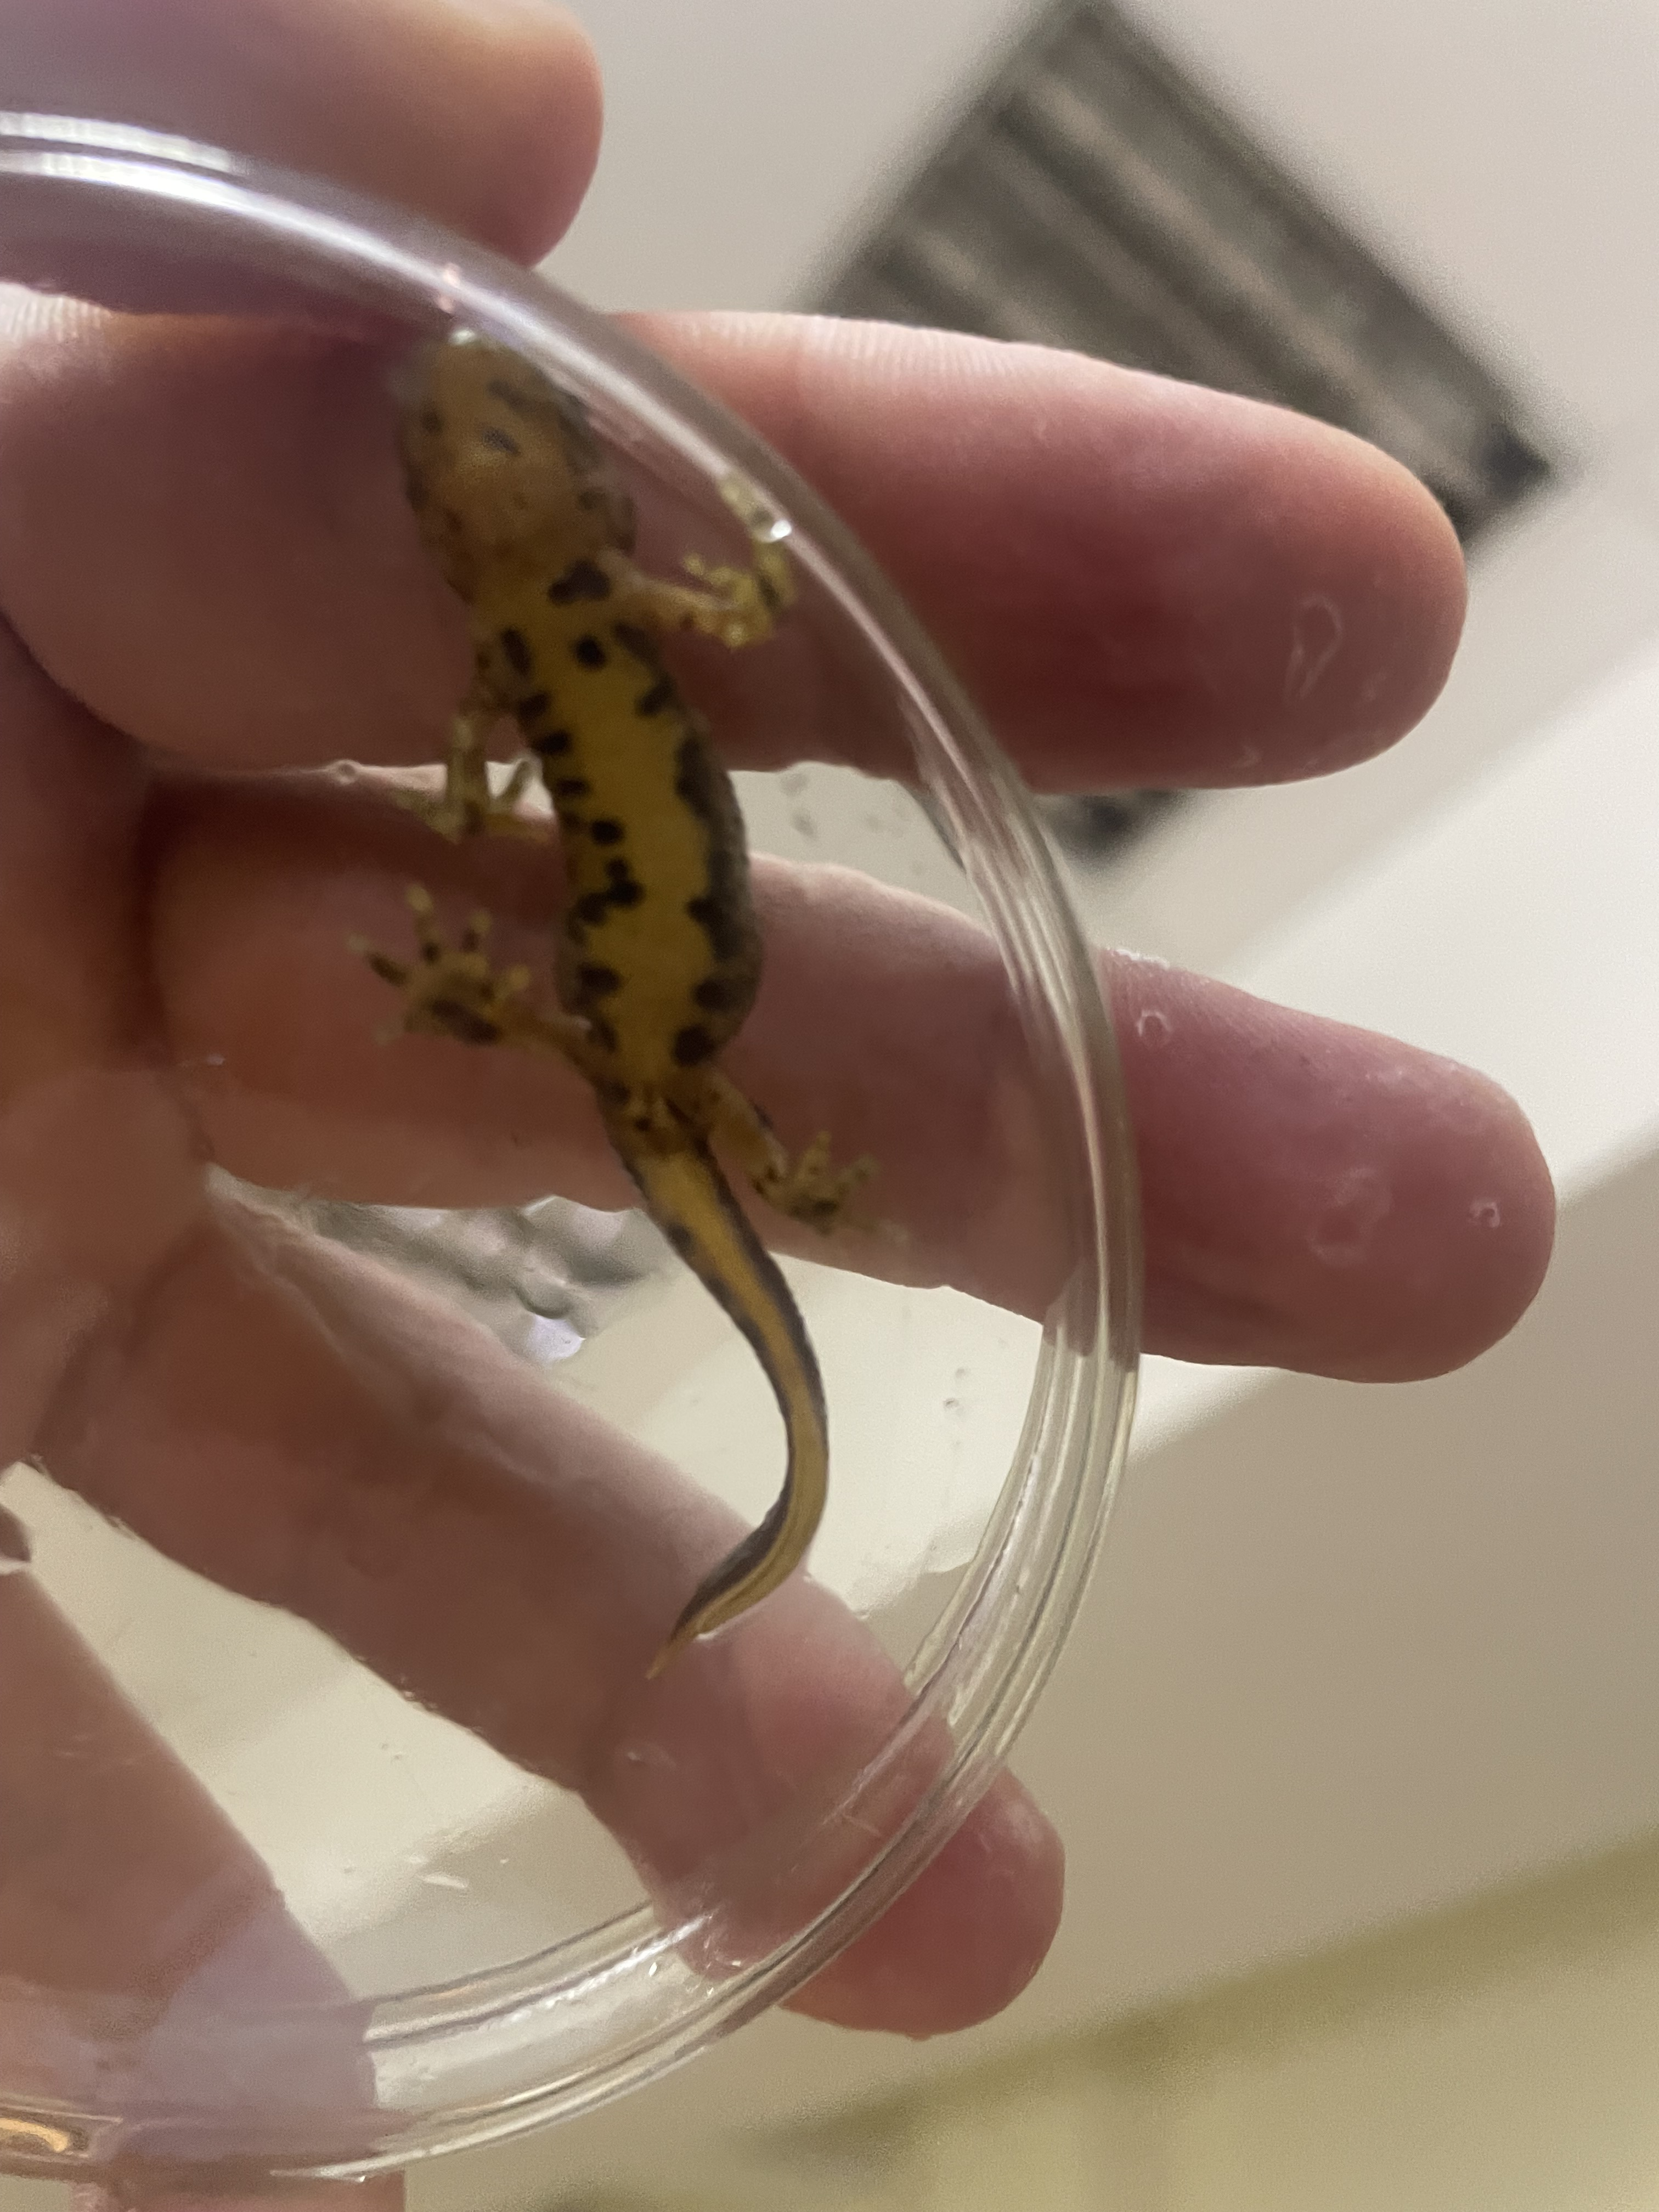Karelin_newt: (505, 629, 762, 1064)
